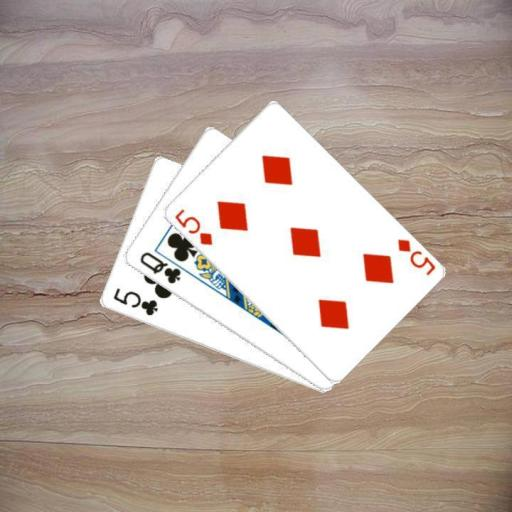card-corner: (393, 236, 437, 278), (171, 206, 214, 248), (136, 248, 182, 286), (110, 285, 158, 318)
